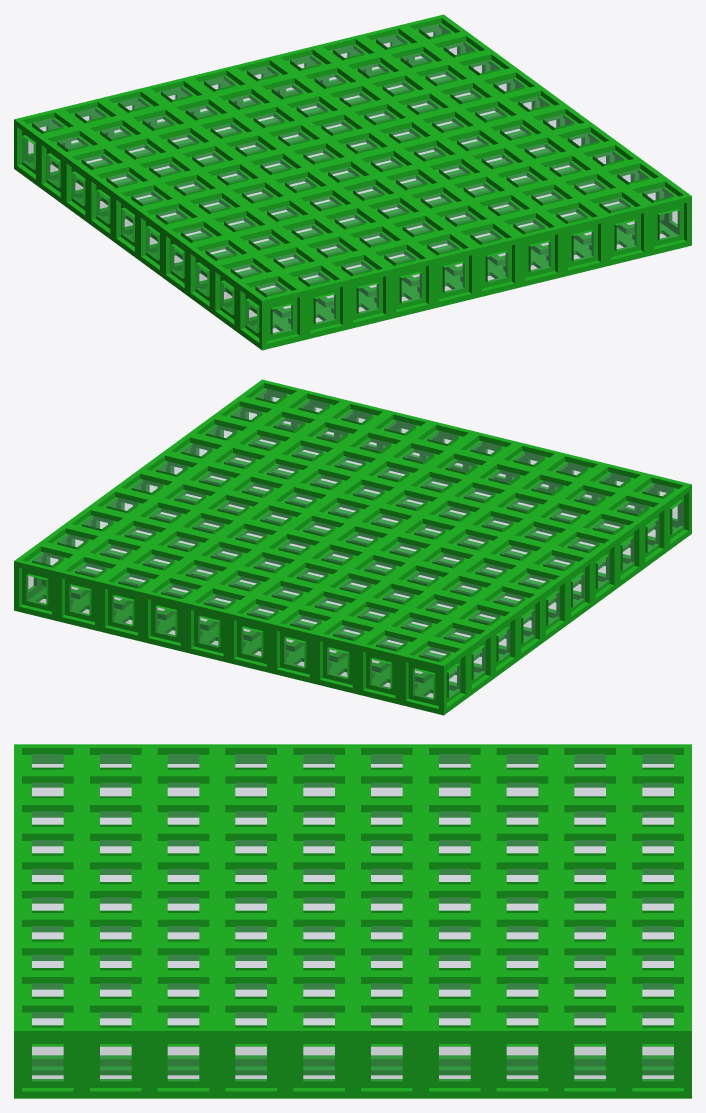
Rendered from cubes2.fbx.
The picture shows the model from 3 angles, top to bottom: view 1: azimuth 30°, elevation 25°; view 2: azimuth 150°, elevation 25°; view 3: azimuth 270°, elevation 25°; orthographic projection. The views are drawn at different scales.
Parts seen in each view (by area): view 1: Cube; view 2: Cube; view 3: Cube.
Boxes of the visible parts, bbox=[...] form: Cube: bbox=[14, 14, 691, 350]; Cube: bbox=[14, 379, 691, 715]; Cube: bbox=[14, 744, 691, 1098].
Bounding box in the file's own units: 1000 × 110 × 1000.
